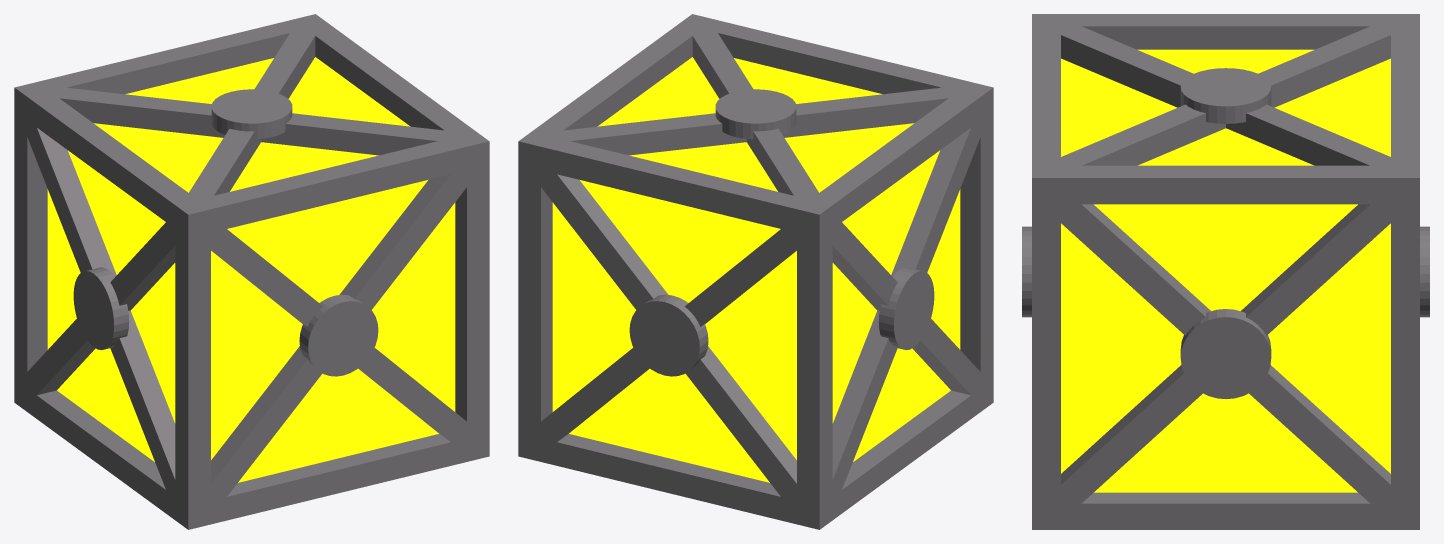
File: led_on.fbx
The picture shows the model from 3 angles, left to right: view 1: azimuth 30°, elevation 25°; view 2: azimuth 150°, elevation 25°; view 3: azimuth 270°, elevation 25°; orthographic projection. The views are drawn at different scales.
Visible parts, largest first — view 1: Cube.001, Cube, Cube.004, Cube.006, Cube.007, Cylinder.001, Cylinder.004, Cylinder.005; view 2: Cube.001, Cube, Cube.002, Cube.006, Cube.007, Cylinder.003, Cylinder.004, Cylinder.005; view 3: Cube, Cube.001, Cube.005, Cube.007, Cylinder.002, Cylinder.005, Cylinder.001, Cylinder.003.
Part boxes in pixels (x1,y1,x2,y2): Cube.001: (14, 14, 489, 529); Cube: (47, 57, 455, 482); Cube.004: (198, 159, 479, 500); Cube.006: (20, 121, 182, 508); Cube.007: (39, 24, 453, 201); Cylinder.001: (299, 294, 378, 376); Cylinder.004: (73, 267, 129, 350); Cylinder.005: (211, 89, 292, 139); Cube.001: (518, 14, 993, 529); Cube: (552, 57, 960, 482); Cube.002: (528, 160, 809, 513); Cube.006: (825, 121, 987, 508); Cube.007: (543, 29, 957, 204); Cylinder.003: (629, 294, 708, 376); Cylinder.004: (878, 267, 934, 350); Cylinder.005: (715, 89, 796, 139); Cube: (1061, 49, 1390, 492); Cube.001: (1032, 14, 1419, 529); Cube.005: (1044, 189, 1407, 503); Cube.007: (1061, 19, 1407, 172); Cylinder.002: (1180, 309, 1271, 398); Cylinder.005: (1180, 68, 1271, 123); Cylinder.001: (1022, 226, 1031, 317); Cylinder.003: (1420, 226, 1429, 317).
Bounding box in the file's own units: 630 × 630 × 630.
